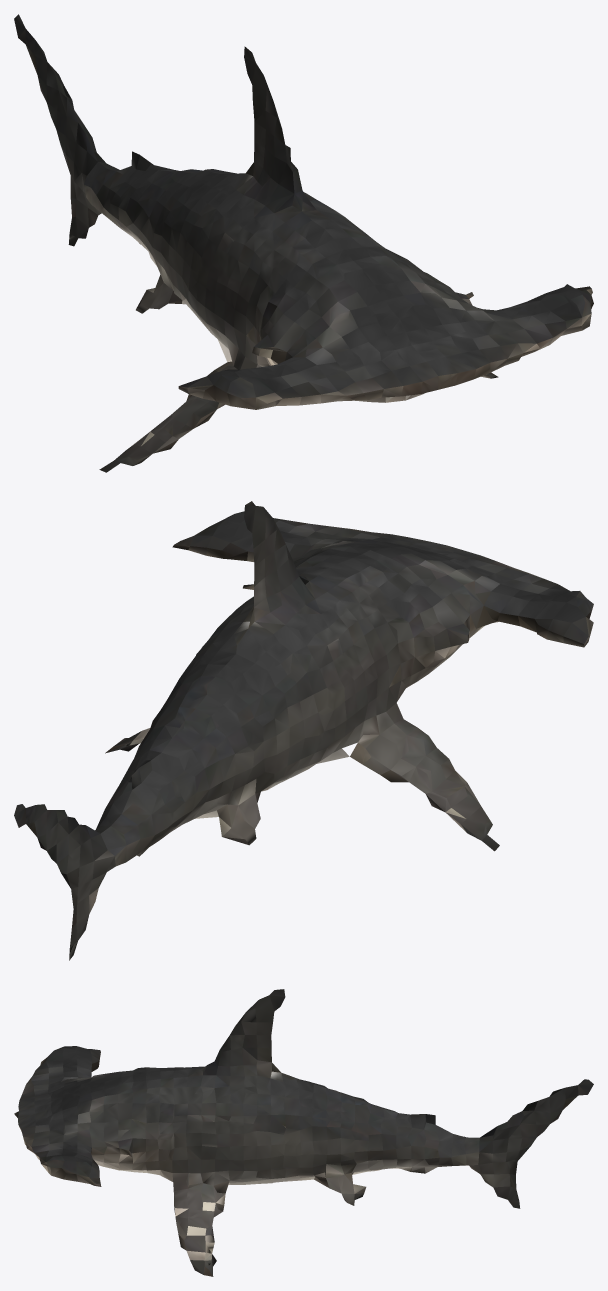
Rendered from hammerhead.glb.
3 renders of one model, top to bottom at view 1: azimuth 30°, elevation 25°; view 2: azimuth 150°, elevation 25°; view 3: azimuth 270°, elevation 25°, orthographic. The views are drawn at different scales.
Size of the model in its own units: 0.5472 by 0.4277 by 0.995.
Materials: 1 (1 with a texture image).
